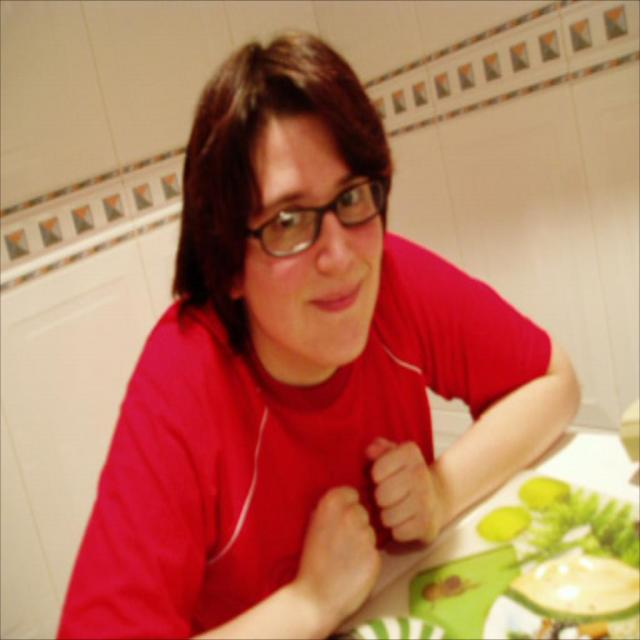Glasses: (226, 171, 387, 256)
